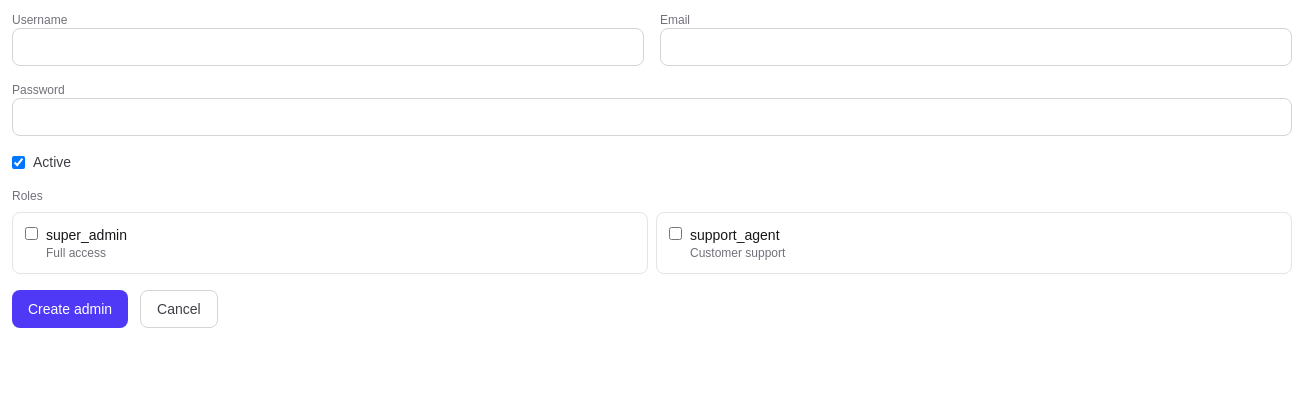
Scenario: AdminForm (create) › validates password length before submitting
In the field labelled "Username": x=328, y=47 [12, 28, 644, 66], type "bob"
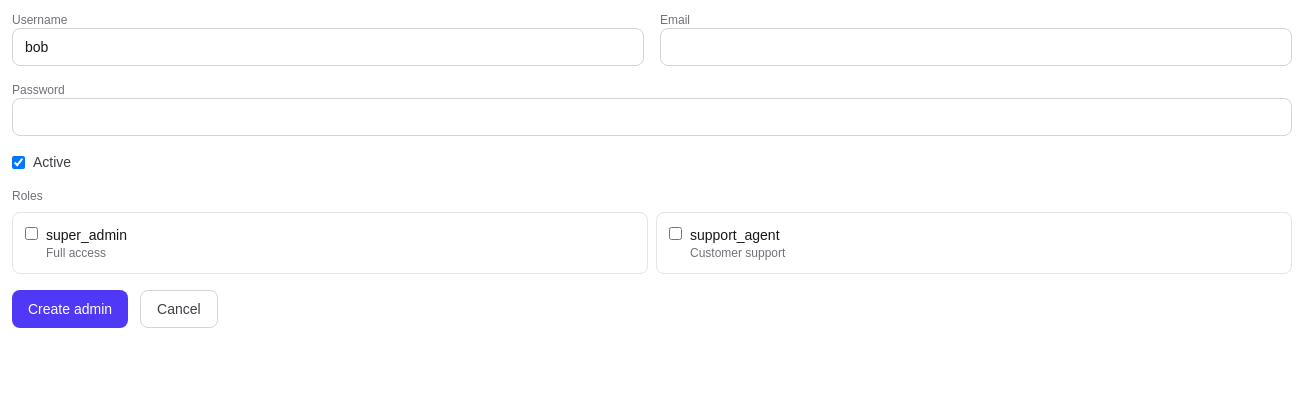
In the field labelled "Email": x=976, y=47 [660, 28, 1292, 66], type "bob@netgrid.local"
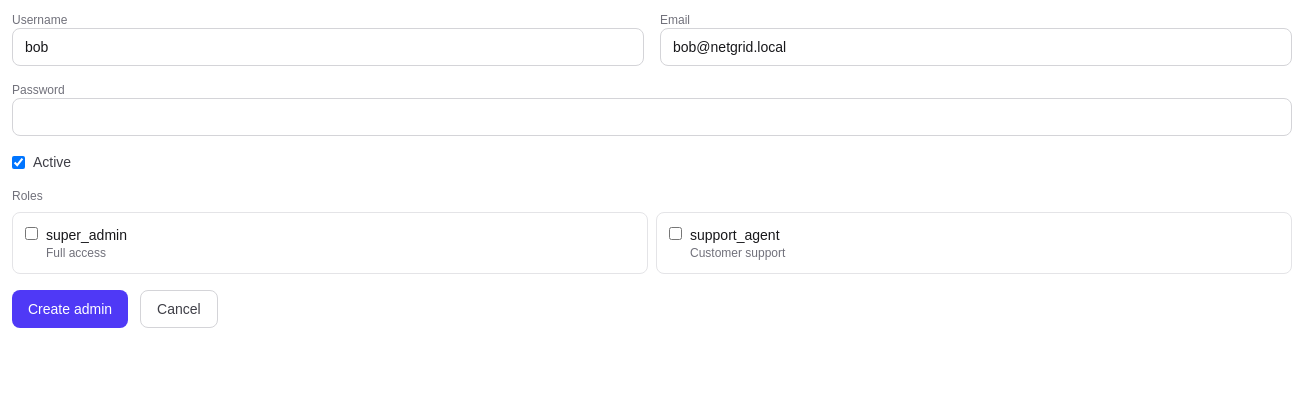
In the password field labelled "Password": x=652, y=117 [12, 98, 1292, 136], type "short"
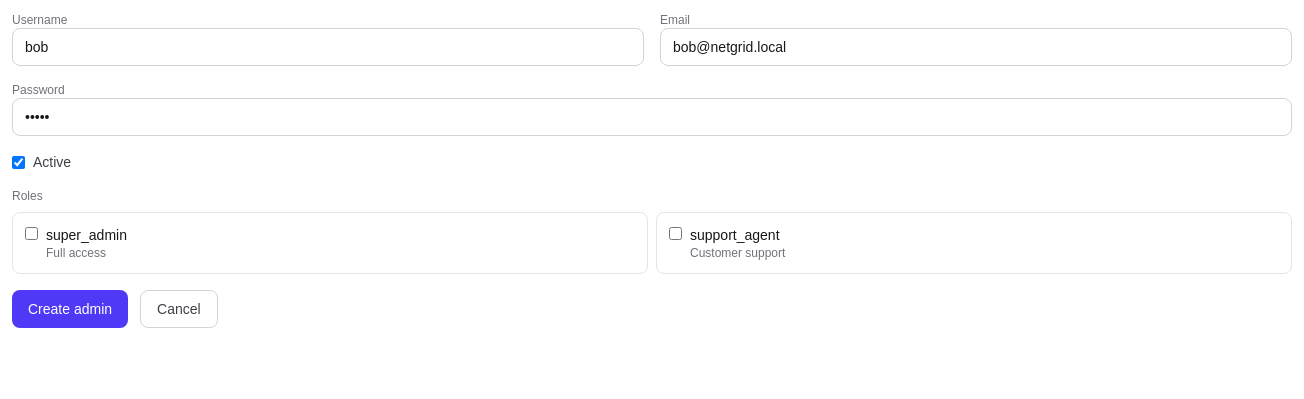
Click the button "Create admin": x=70, y=309 [12, 290, 128, 328]
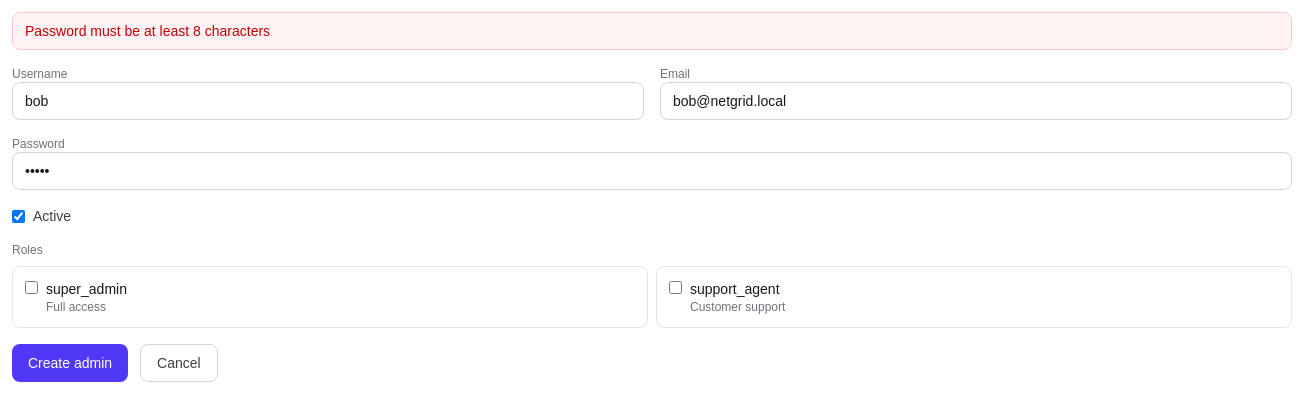
Check: the message reads "Password must be at least 8 characters", box [25, 23, 270, 39]
